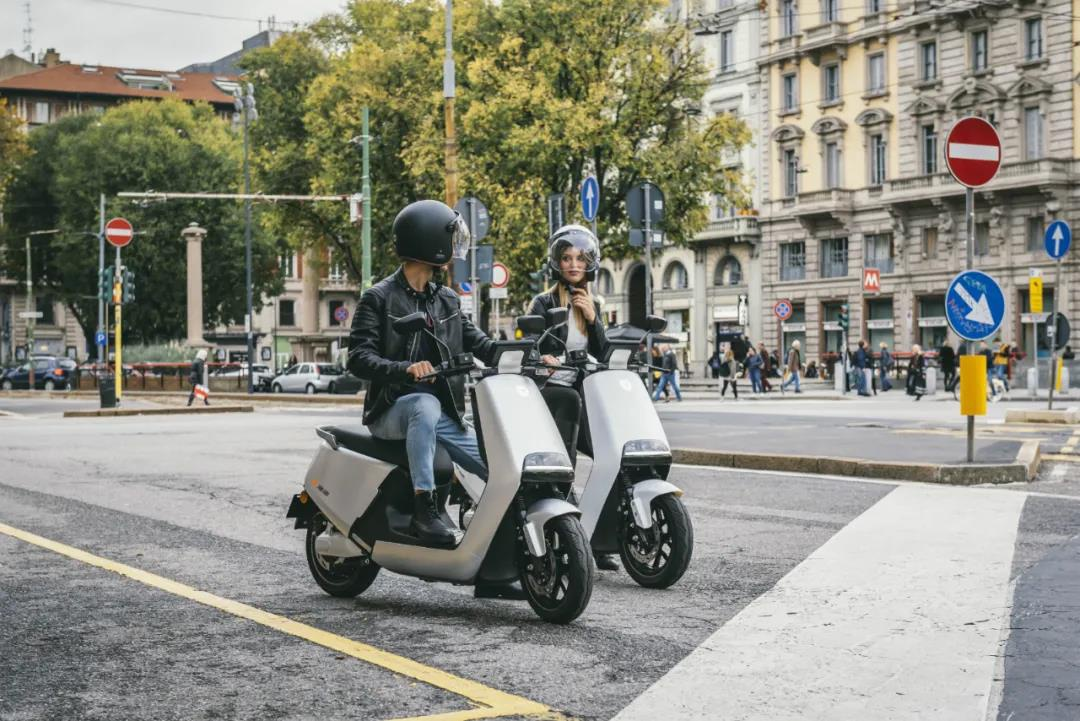non-vehicle: (286, 363, 597, 628), (558, 336, 703, 594)
